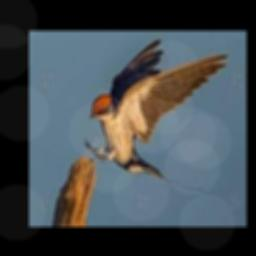Swallow: (84, 39, 232, 192)
